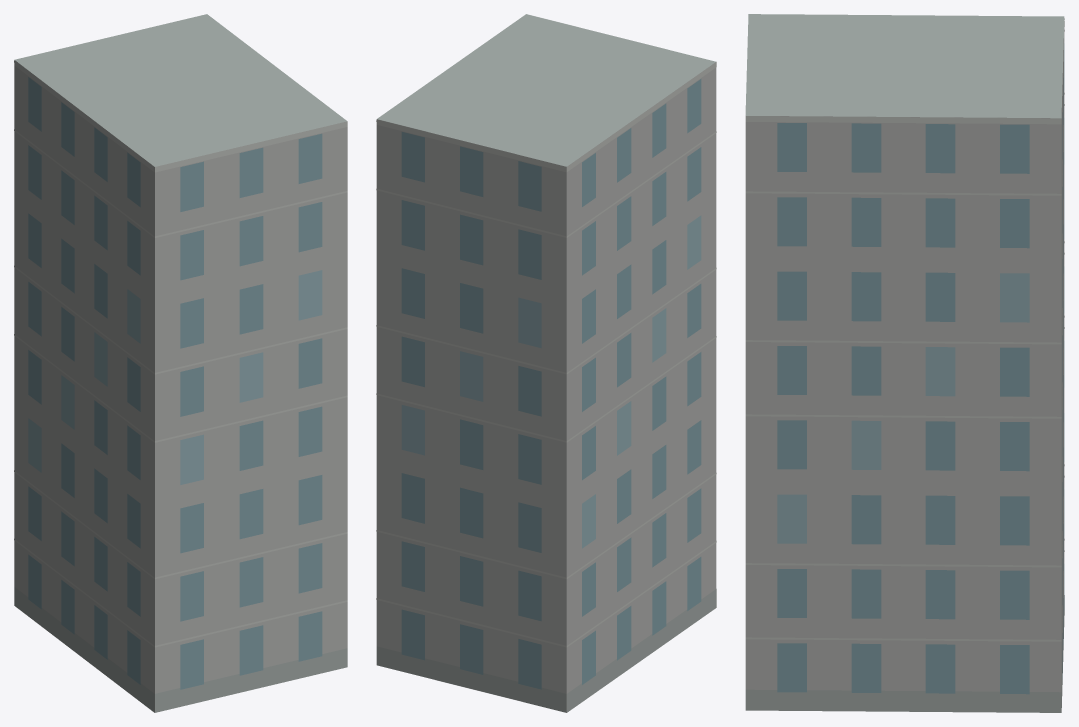
Rendered from survey-upis-32577404.glb.
3 renders of one model, left to right at view 1: azimuth 30°, elevation 25°; view 2: azimuth 150°, elevation 25°; view 3: azimuth 270°, elevation 25°, orthographic. The views are drawn at different scales.
Visible parts, largest first — view 1: survey-upis-32577404.tmp; view 2: survey-upis-32577404.tmp; view 3: survey-upis-32577404.tmp.
Part boxes in pixels (box(x1,y1,x2,y2)): survey-upis-32577404.tmp: box(14, 14, 347, 712); survey-upis-32577404.tmp: box(376, 14, 716, 712); survey-upis-32577404.tmp: box(745, 14, 1064, 712).
Size of the model in its own units: 9.03 by 23.95 by 11.67.
